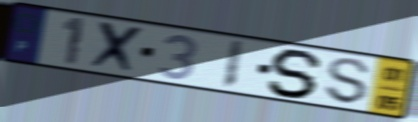1: (60, 16, 88, 68)
3: (157, 32, 200, 82)
I: (220, 38, 246, 91)
S: (266, 47, 327, 100), (324, 56, 372, 107)
X: (86, 19, 147, 77)
